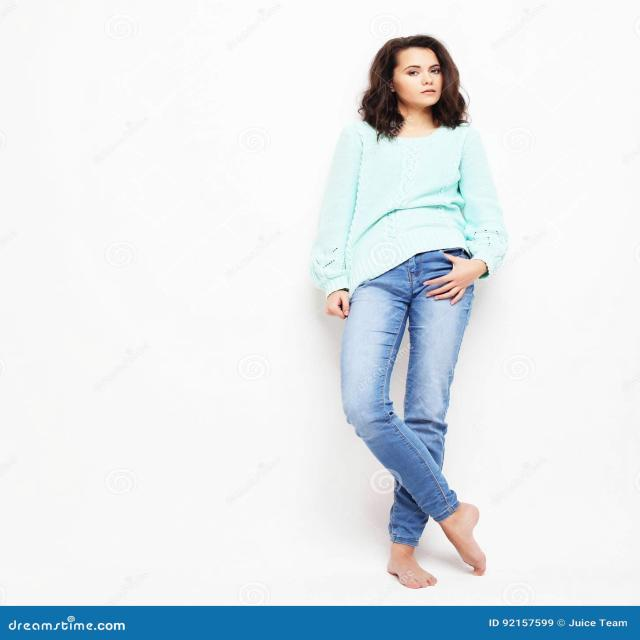adult: (306, 33, 510, 594)
